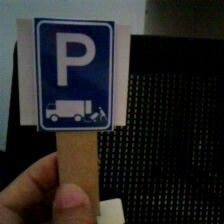load: (17, 12, 137, 138)
